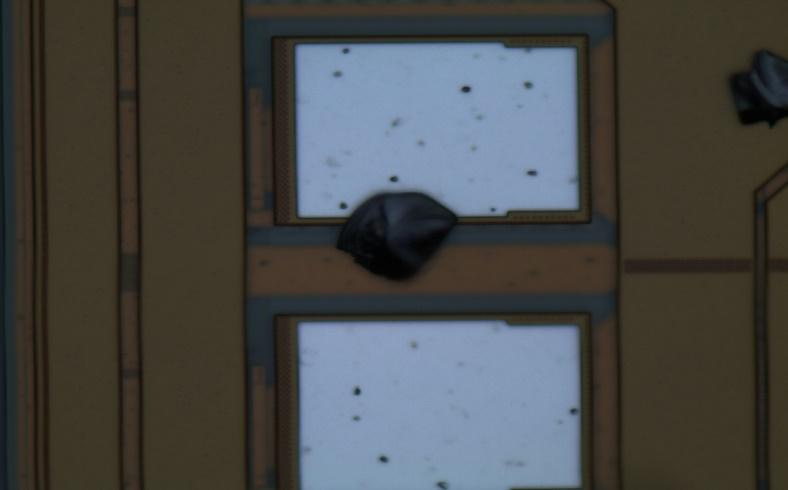PO CONTAMINATION: (332, 48, 788, 289)
